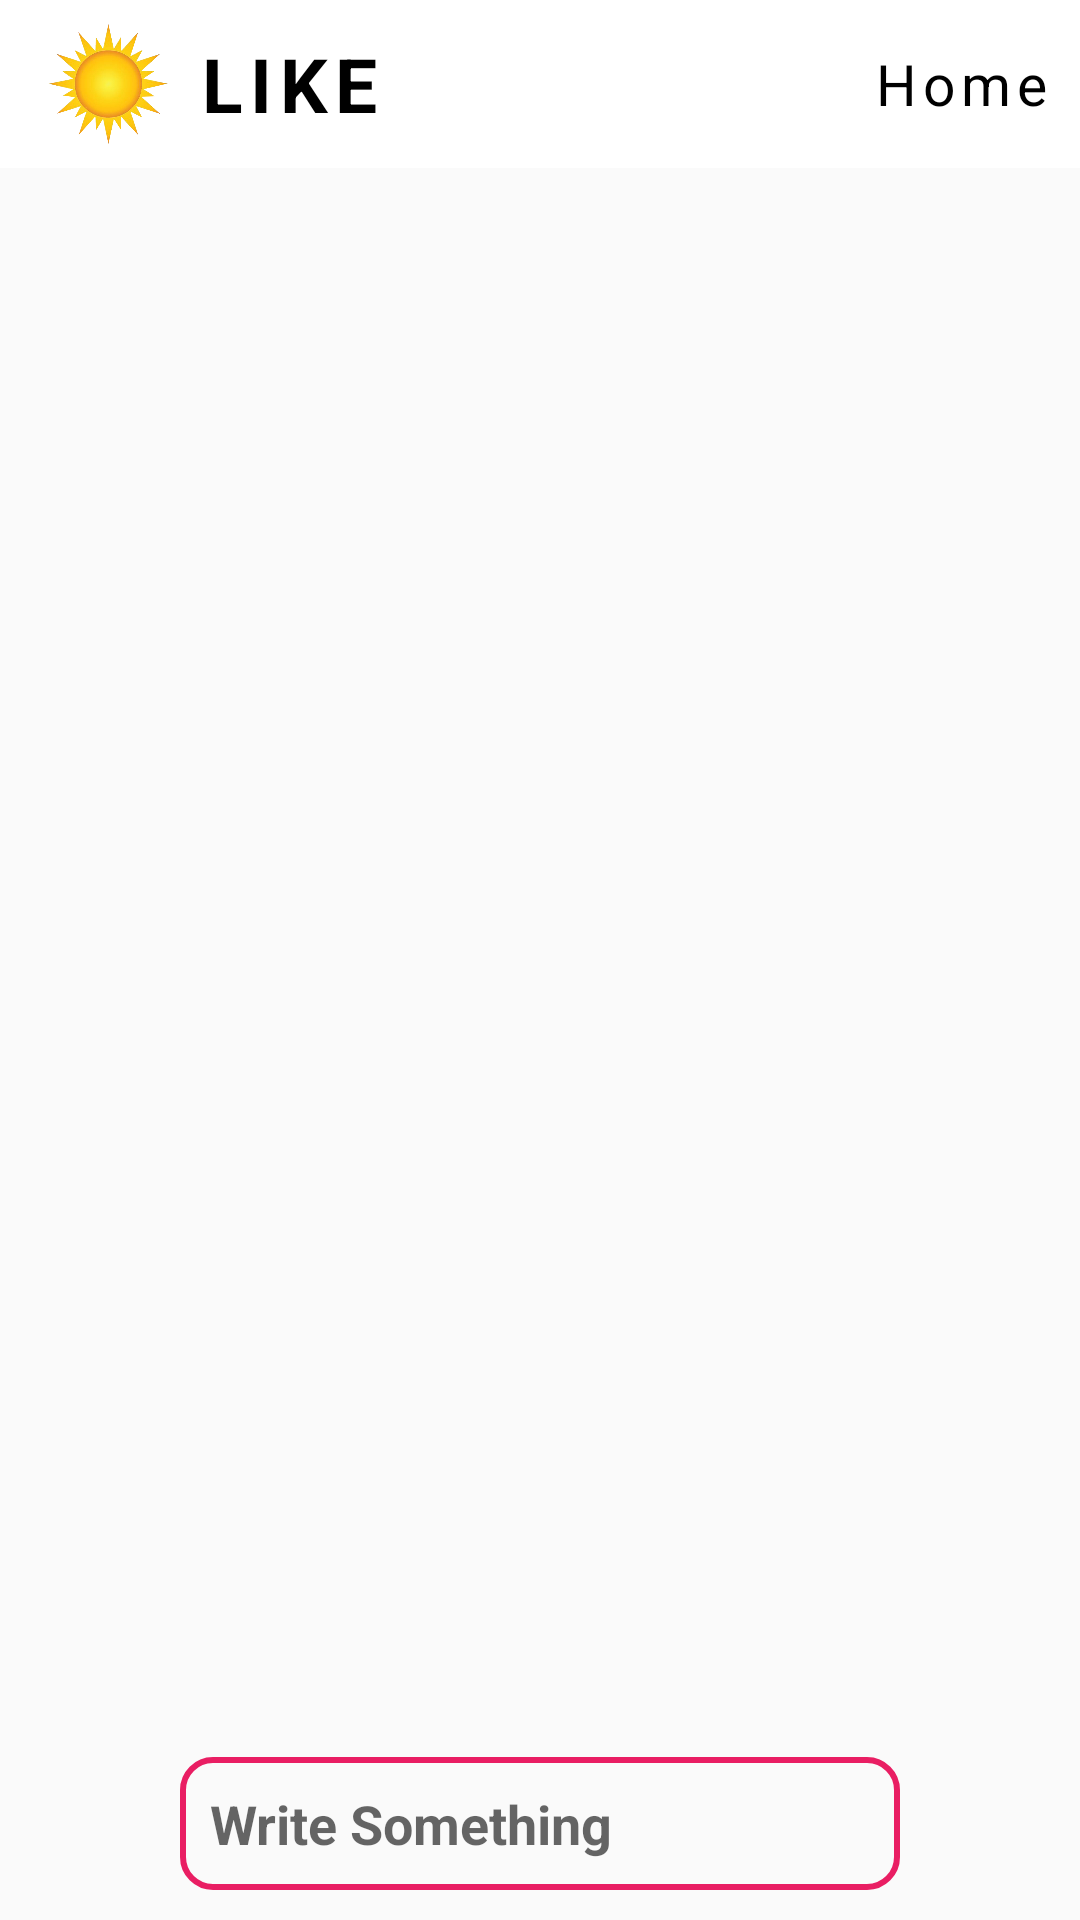

Icon bounding boxes for this 1080x1920 phone screenshot, format (x1,y1,x2,y2):
sun: (49,24,168,144)
